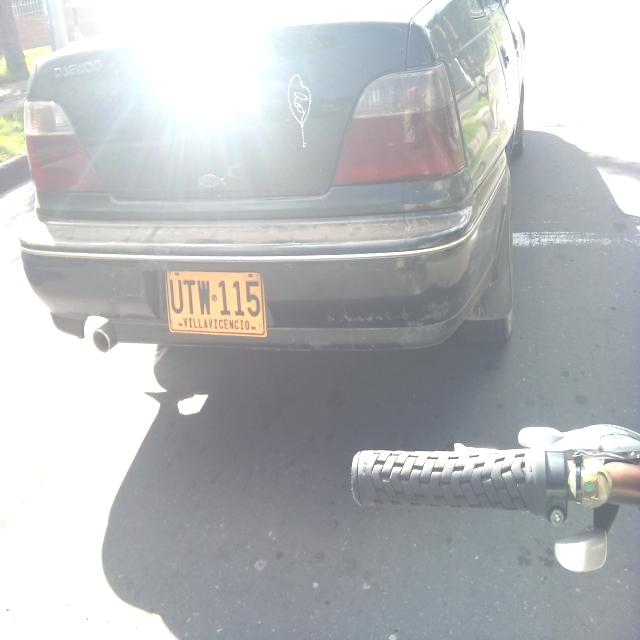placa: (162, 263, 270, 340)
